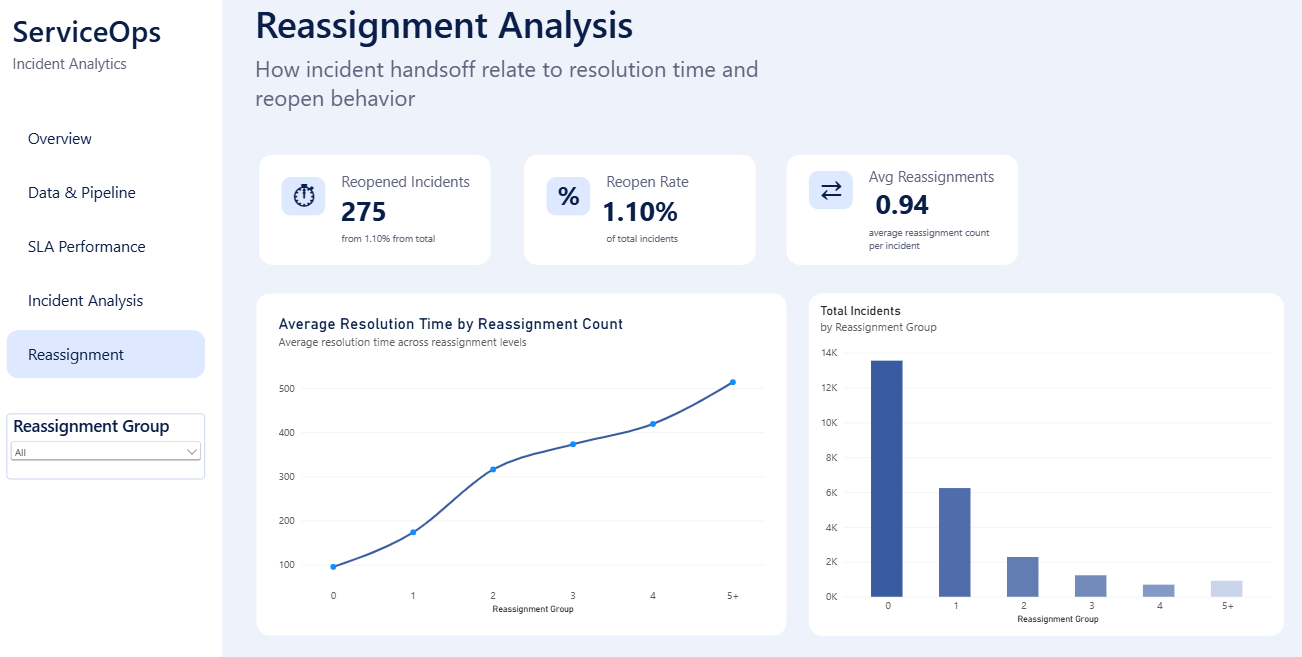

The dashboard page shown, as its layout file describes it:
{"tool":"powerbi","page":{"name":"Reassignment","canvas":[1920,1080],"ordinal":4},"visuals":[{"type":"shape","box":[0,-24,336,1104],"z":0},{"type":"textbox","box":[384,24,720,72],"z":0,"group":"g1"},{"type":"textbox","box":[32,40,240,64],"z":0,"group":"g2"},{"type":"shape","box":[388.2,250,336,160],"z":0,"group":"g3"},{"type":"shape","box":[772.2,250,336,160],"z":0,"group":"g4"},{"type":"shape","box":[1153,250,336,160],"z":0,"group":"g5"},{"type":"group","id":"g1","title":"Group 1","box":[384,24,800,192],"z":1000},{"type":"textbox","box":[32,104,240,32],"z":1000,"group":"g2"},{"type":"textbox","box":[384,104,800,112],"z":1000,"group":"g1"},{"type":"group","id":"g2","title":"Group 2","box":[32,40,240,96],"z":2000},{"type":"pageNavigator","box":[24,192,288,384],"z":3000},{"type":"group","id":"g3","title":"Group 3","box":[388.2,250,336,160],"z":4000},{"type":"group","id":"g4","title":"Group 3","box":[772.2,250,336,160],"z":5000},{"type":"group","id":"g5","title":"Group 3","box":[1153,250,336,160],"z":6000},{"type":"shape","box":[385,450,768,496],"z":7000},{"type":"lineChart","title":"Average Resolution Time by Reassignment Count","fields":{"Category":["analytics fact_incidents.Reassignment Group"],"Y":["analytics fact_incidents.Average Resolution Hours"]},"box":[401,466,736,464],"z":8000},{"type":"clusteredColumnChart","fields":{"Category":["analytics fact_incidents.Reassignment Group"],"Y":["analytics fact_incidents.Total Incidents"]},"box":[1185,450,688,496],"z":8001},{"type":"slicer","fields":{"Values":["analytics fact_incidents.Reassignment Group"]},"box":[24,624,288,96],"z":8002},{"type":"card","fields":{"Values":["analytics fact_incidents.Average Reassignments"]},"box":[1249,290,144,64],"z":14000,"group":"g5"},{"type":"card","fields":{"Values":["analytics fact_incidents.Reopened Incidents"]},"box":[484.2,298,112,64],"z":14000,"group":"g3"},{"type":"card","fields":{"Values":["analytics fact_incidents.Reopen Rate"]},"box":[868.2,298,144,64],"z":14000,"group":"g4"},{"type":"textbox","box":[1273,266,208,32],"z":15000,"group":"g5"},{"type":"textbox","box":[508.2,274,208,32],"z":15000,"group":"g3"},{"type":"textbox","box":[892.2,274,208,32],"z":15000,"group":"g4"},{"type":"shape","box":[1185,274,64,56],"z":16000,"group":"g5"},{"type":"shape","box":[420.2,282,64,56],"z":16000,"group":"g3"},{"type":"shape","box":[804.2,282,64,56],"z":16000,"group":"g4"},{"type":"textbox","box":[1201,274,40,56],"z":17000,"group":"g5"},{"type":"textbox","box":[436.2,282,40,56],"z":17000,"group":"g3"},{"type":"textbox","box":[820.2,282,40,56],"z":17000,"group":"g4"},{"type":"textbox","box":[1273,354,184,40],"z":18000,"group":"g5"},{"type":"textbox","box":[508.2,362,144,32],"z":18000,"group":"g3"},{"type":"textbox","box":[892.2,362,144,32],"z":18000,"group":"g4"}]}

Visuals, with their boxes on the page's 1920x1080 design canvas (x1, y1, x2, y2). These are canvas units, not pixel positions in the 1302x657 screenshot, which may show the page scaled, cropped or inside an application window:
shape: [0,-24,336,1080]
textbox: [384,24,1104,96]
textbox: [32,40,272,104]
shape: [388,250,724,410]
shape: [772,250,1108,410]
shape: [1153,250,1489,410]
"Group 1" group: [384,24,1184,216]
textbox: [32,104,272,136]
textbox: [384,104,1184,216]
"Group 2" group: [32,40,272,136]
pageNavigator: [24,192,312,576]
"Group 3" group: [388,250,724,410]
"Group 3" group: [772,250,1108,410]
"Group 3" group: [1153,250,1489,410]
shape: [385,450,1153,946]
"Average Resolution Time by Reassignment Count" lineChart: [401,466,1137,930]
clusteredColumnChart - analytics fact_incidents.Reassignment Group x analytics fact_incidents.Total Incidents: [1185,450,1873,946]
slicer - analytics fact_incidents.Reassignment Group: [24,624,312,720]
card - analytics fact_incidents.Average Reassignments: [1249,290,1393,354]
card - analytics fact_incidents.Reopened Incidents: [484,298,596,362]
card - analytics fact_incidents.Reopen Rate: [868,298,1012,362]
textbox: [1273,266,1481,298]
textbox: [508,274,716,306]
textbox: [892,274,1100,306]
shape: [1185,274,1249,330]
shape: [420,282,484,338]
shape: [804,282,868,338]
textbox: [1201,274,1241,330]
textbox: [436,282,476,338]
textbox: [820,282,860,338]
textbox: [1273,354,1457,394]
textbox: [508,362,652,394]
textbox: [892,362,1036,394]
